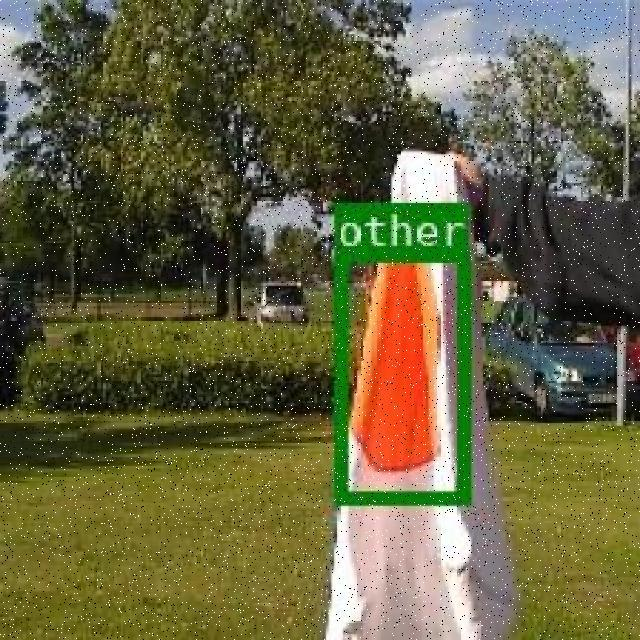other: (334, 248, 466, 502)
